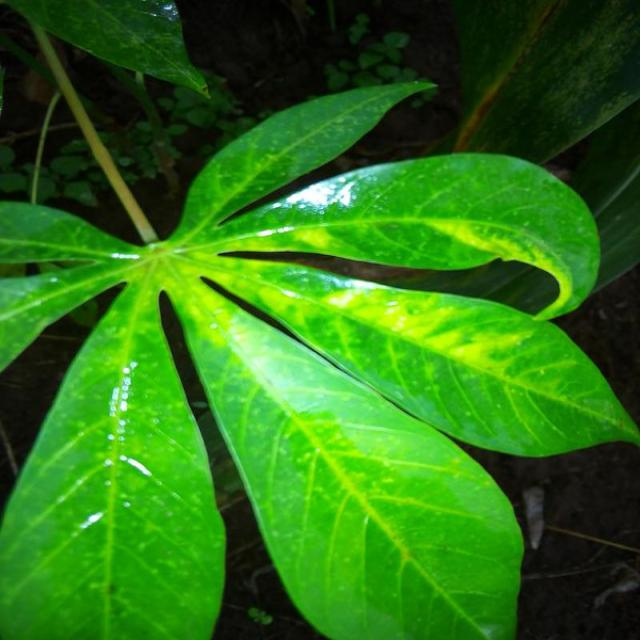cassava leaf: (2, 72, 639, 638), (172, 270, 526, 639), (1, 264, 228, 639), (202, 264, 640, 458), (203, 149, 602, 322)
